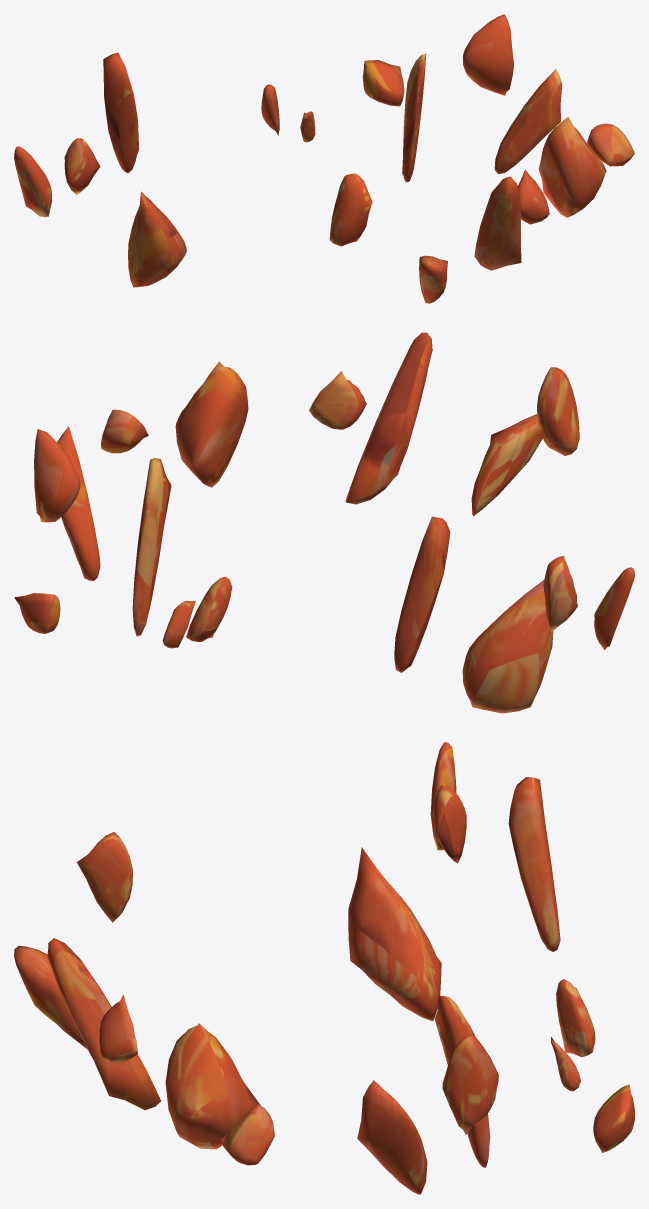
Rendered from Floating Rocks.fbx.
3 views of the same model, one above another, from view 1: azimuth 30°, elevation 25°; view 2: azimuth 150°, elevation 25°; view 3: azimuth 270°, elevation 25° (orthographic). The views are drawn at different scales.
Parts seen in each view (by area): view 1: LevelsRocks 6.010, LevelsRocks 6.015, LevelsRocks 6.006, LevelsRocks 6.009, LevelsRocks 6.002, LevelsRocks 6.014, LevelsRocks 6.016, LevelsRocks 6.005, LevelsRocks 6.004, LevelsRocks 6.008, LevelsRocks 6.003, LevelsRocks 6.013 (+3 smaller); view 2: LevelsRocks 6.015, LevelsRocks 6.010, LevelsRocks 6.006, LevelsRocks 6.002, LevelsRocks 6.005, LevelsRocks 6.001, LevelsRocks 6.014, LevelsRocks 6.016, LevelsRocks 6.009, LevelsRocks 6.012, LevelsRocks 6.013, LevelsRocks 6.004 (+4 smaller); view 3: LevelsRocks 6.015, LevelsRocks 6.010, LevelsRocks 6.006, LevelsRocks 6.002, LevelsRocks 6.009, LevelsRocks 6.014, LevelsRocks 6.016, LevelsRocks 6.001, LevelsRocks 6.005, LevelsRocks 6.007, LevelsRocks 6.003, LevelsRocks 6.008 (+4 smaller).
Part boxes in pixels (x1,y1,x2,y2): LevelsRocks 6.010: (538,117,606,217); LevelsRocks 6.015: (128,191,186,287); LevelsRocks 6.006: (474,176,521,270); LevelsRocks 6.009: (494,69,562,173); LevelsRocks 6.002: (103,52,138,173); LevelsRocks 6.014: (463,14,513,95); LevelsRocks 6.016: (329,173,372,246); LevelsRocks 6.005: (402,53,426,182); LevelsRocks 6.004: (14,146,51,216); LevelsRocks 6.008: (362,60,404,106); LevelsRocks 6.003: (587,123,634,166); LevelsRocks 6.013: (64,138,100,194); LevelsRocks 6.015: (462,580,553,713); LevelsRocks 6.010: (175,361,248,487); LevelsRocks 6.006: (345,332,432,504); LevelsRocks 6.002: (394,516,450,672); LevelsRocks 6.005: (132,458,171,636); LevelsRocks 6.001: (471,414,542,516); LevelsRocks 6.014: (34,429,80,522); LevelsRocks 6.016: (537,367,579,455); LevelsRocks 6.009: (57,426,100,580); LevelsRocks 6.012: (309,371,366,429); LevelsRocks 6.013: (543,556,577,632); LevelsRocks 6.004: (594,567,634,649); LevelsRocks 6.015: (348,847,441,1021); LevelsRocks 6.010: (165,1023,260,1149); LevelsRocks 6.006: (47,938,160,1110); LevelsRocks 6.002: (508,777,560,951); LevelsRocks 6.009: (357,1080,427,1194); LevelsRocks 6.014: (442,1035,498,1134); LevelsRocks 6.016: (77,832,132,922); LevelsRocks 6.001: (14,945,87,1049); LevelsRocks 6.005: (434,996,490,1167); LevelsRocks 6.007: (556,979,595,1057); LevelsRocks 6.003: (221,1104,274,1165); LevelsRocks 6.008: (593,1084,634,1152).
Size of the model in its own units: 47198 by 16563 by 38385.
